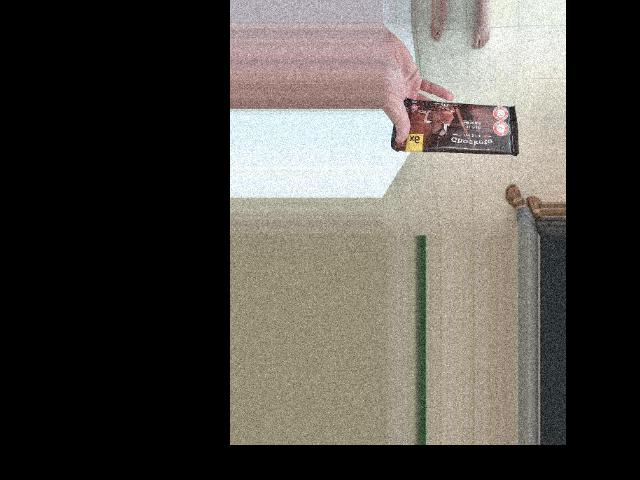chocolate: (388, 87, 518, 161)
